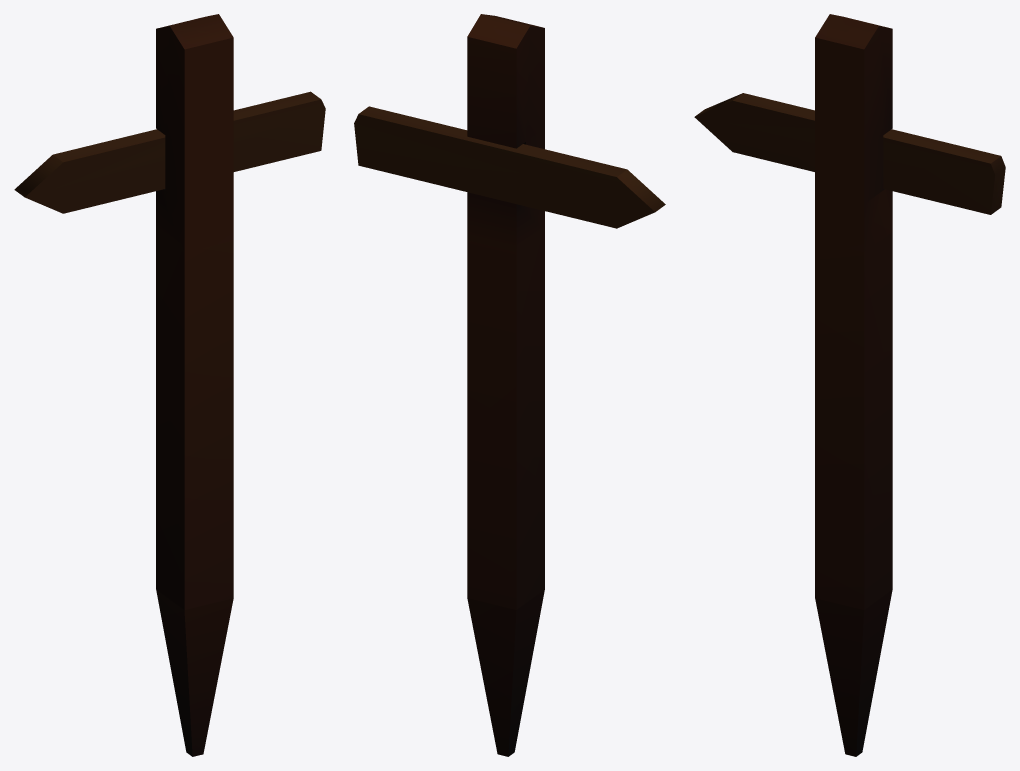
Rendered from WoodDirectionSign_Single.fbx.
3 views of the same model, side by side, from view 1: azimuth 30°, elevation 25°; view 2: azimuth 150°, elevation 25°; view 3: azimuth 330°, elevation 25° (orthographic).
Visible parts, largest first — view 1: WoodDirectionSign_Single; view 2: WoodDirectionSign_Single; view 3: WoodDirectionSign_Single.
Boxes of the visible parts, box(x1,y1,x2,y2) form: WoodDirectionSign_Single: box(14, 14, 325, 756); WoodDirectionSign_Single: box(354, 14, 665, 756); WoodDirectionSign_Single: box(694, 14, 1005, 756).
Size of the model in its own units: 139 by 323 by 23.99.
